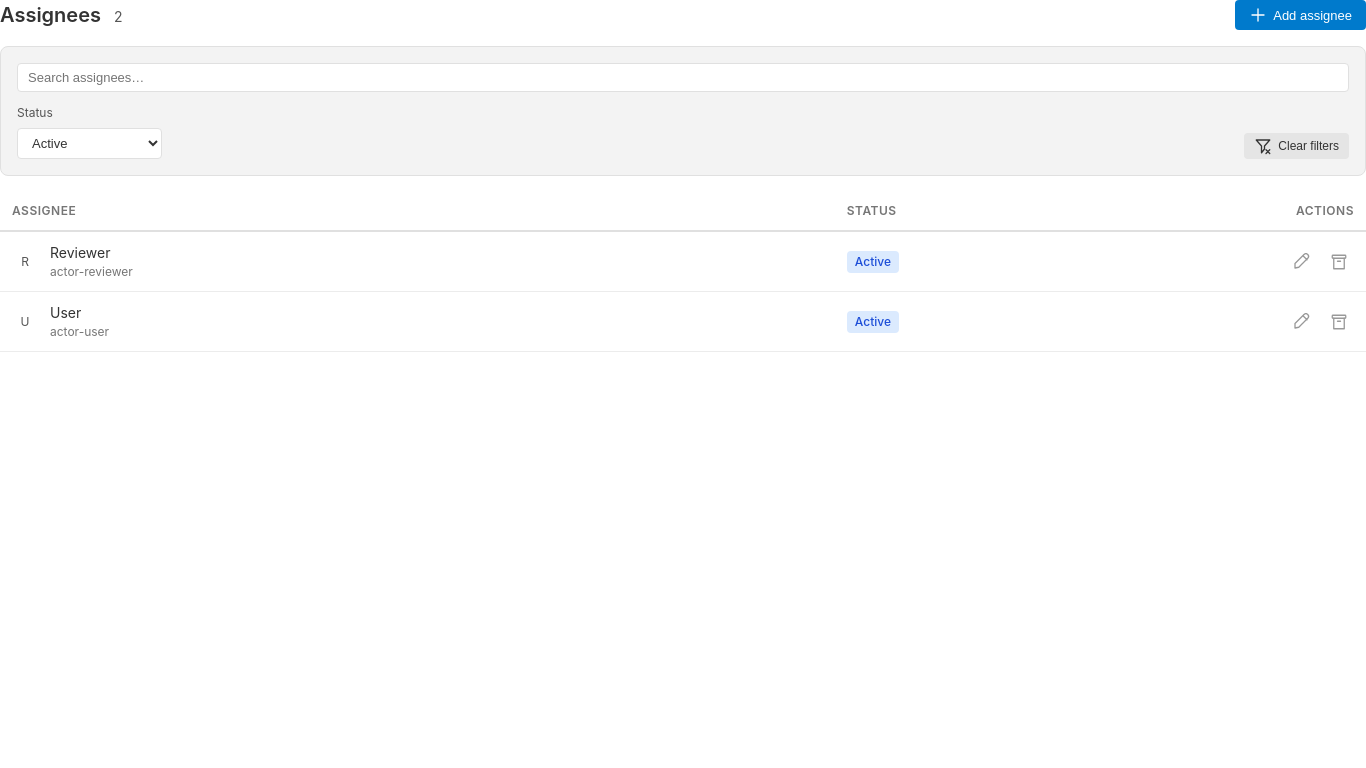
Scenario: cancels a rename dialog without changing the assignee
Expected: the button "Reviewer" is shown, [50,242,110,263]
Click the button named "Rename Reviewer" at {"x": 1301, "y": 262}, box [1286,250,1316,272]
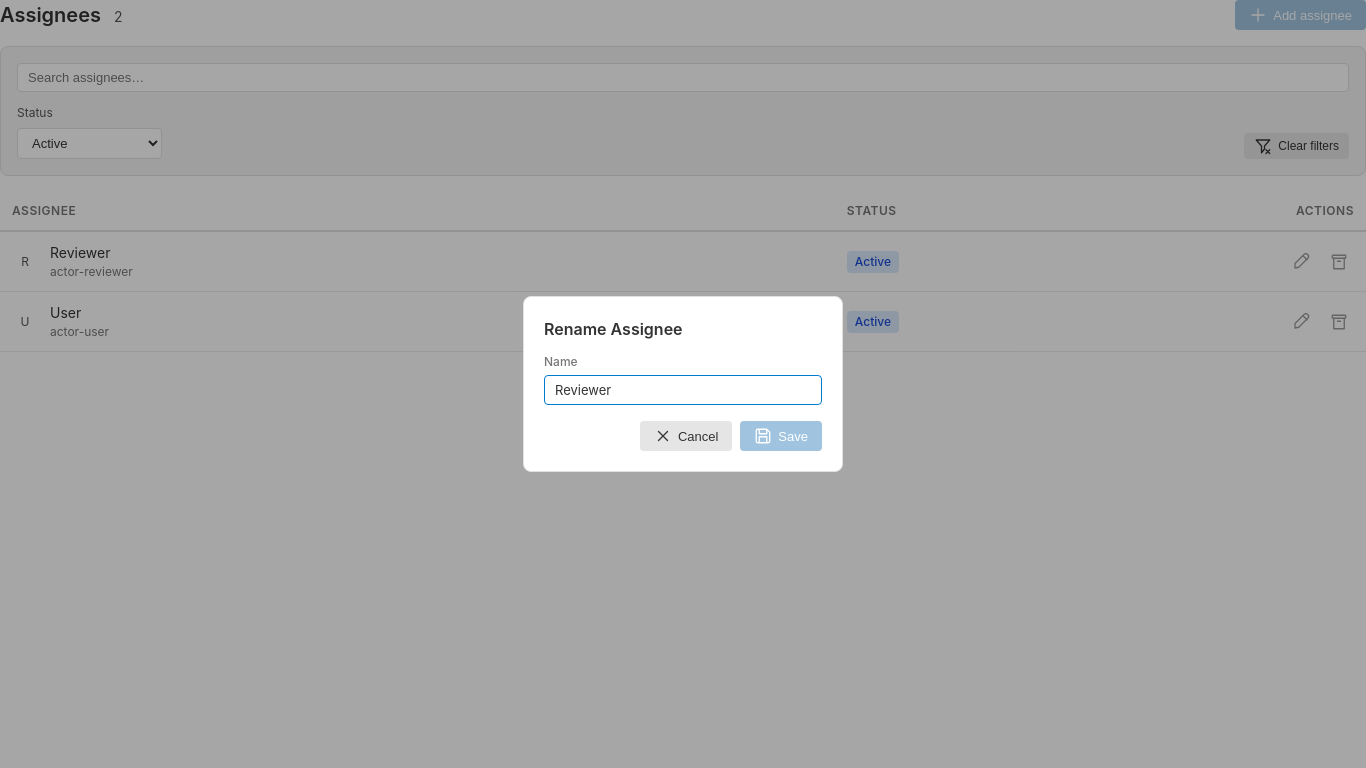
Expected: the button "Save" is disabled, [740,421,822,451]
Replace the text in the field labelled "Name" with "Draft name" at {"x": 683, "y": 390}, box [544,375,822,405]
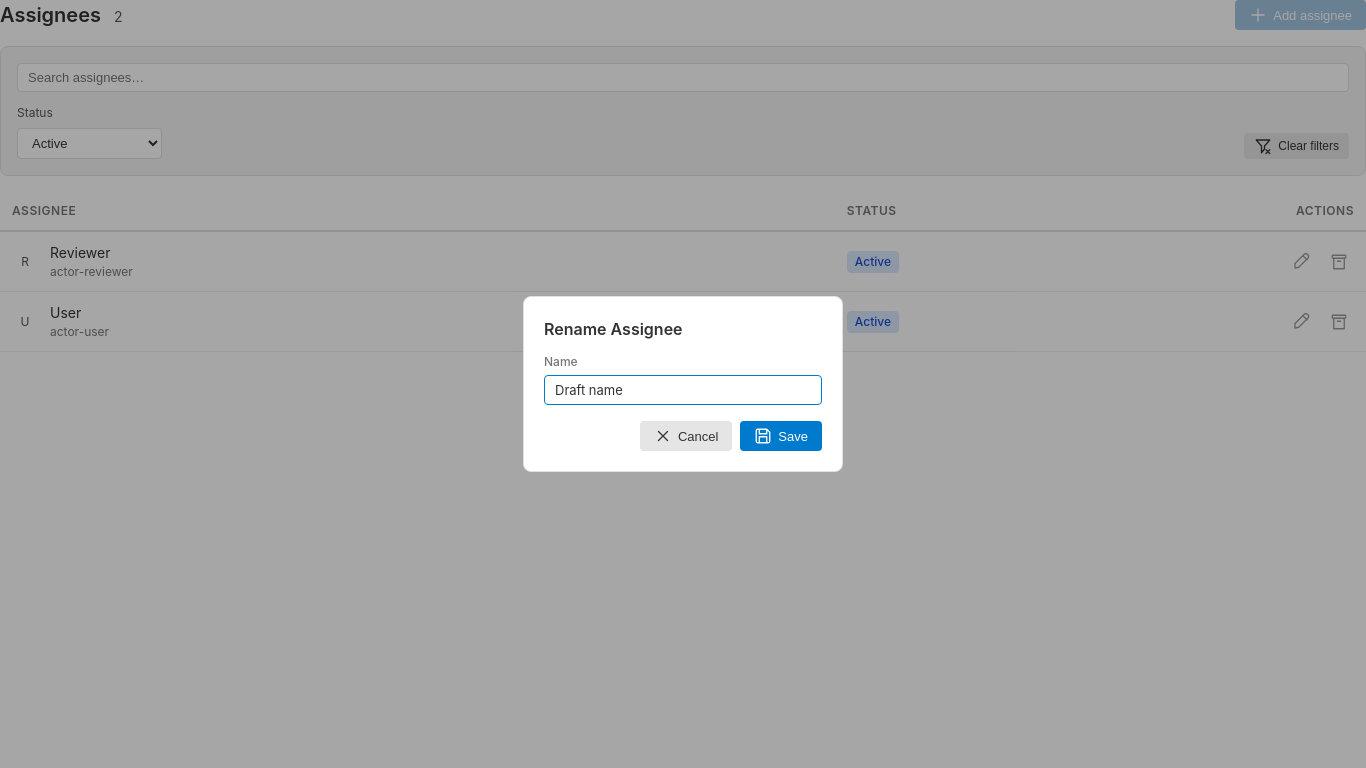
Click the button "Cancel" at {"x": 686, "y": 436}, box [640,421,732,451]
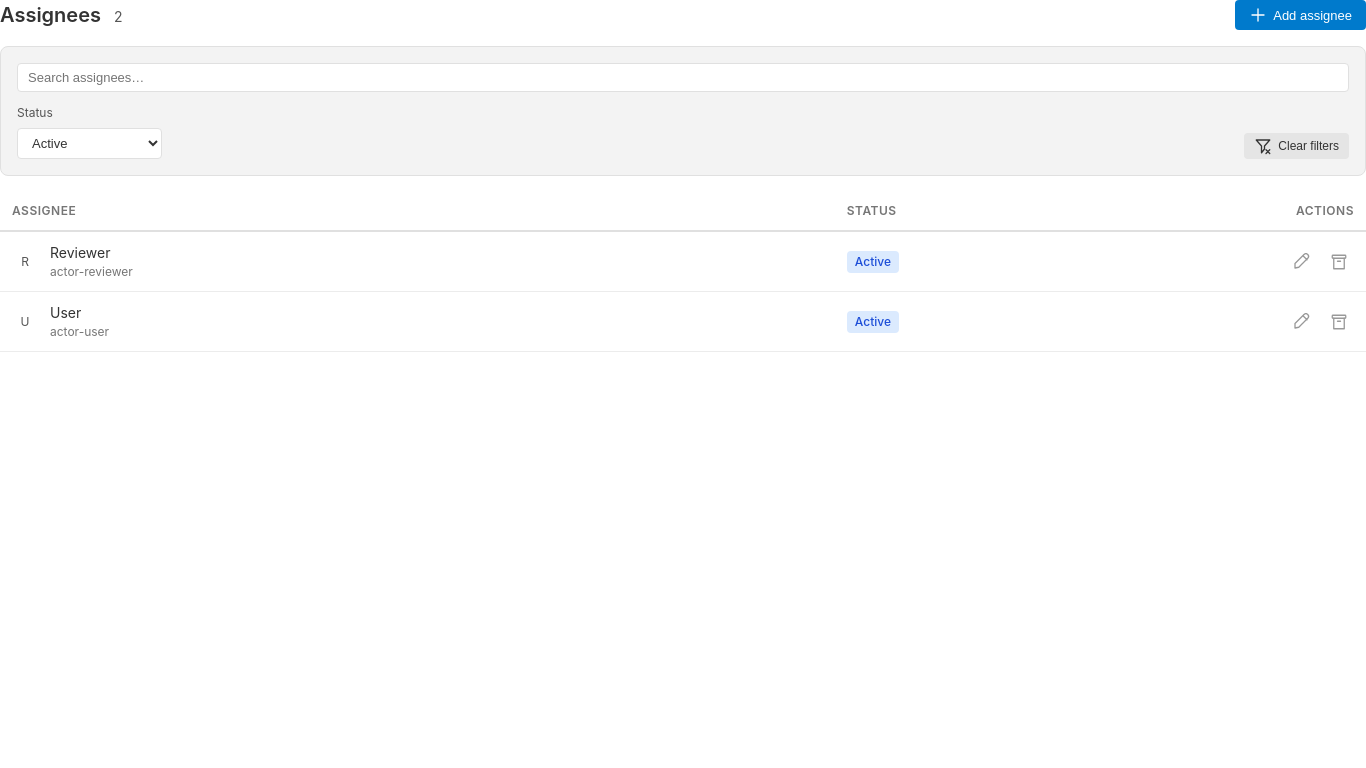
Expected: the dialog is gone
Click the button named "Rename Reviewer" at {"x": 1301, "y": 262}, box [1286,250,1316,272]
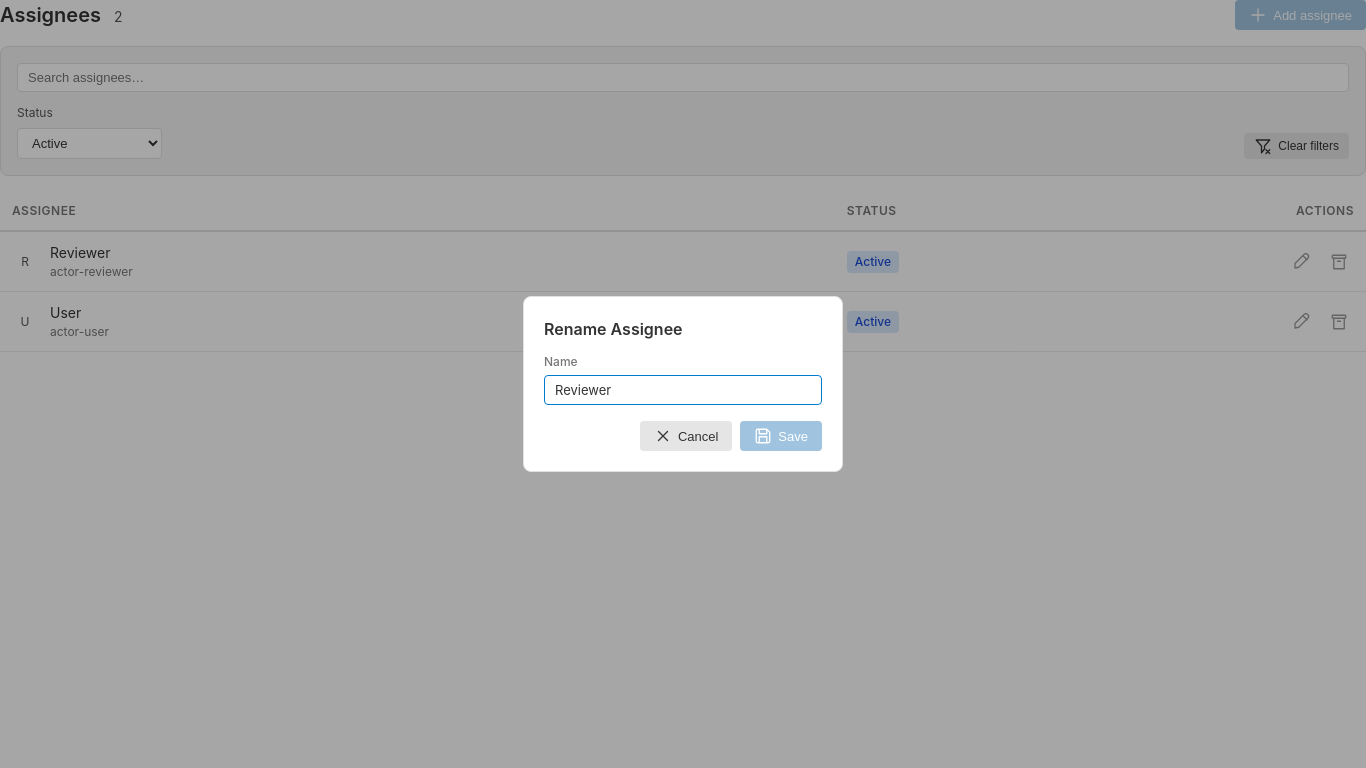
Expected: the field labelled "Name" holds "Reviewer"
Press Escape in the field labelled "Name", box [544,375,822,405]
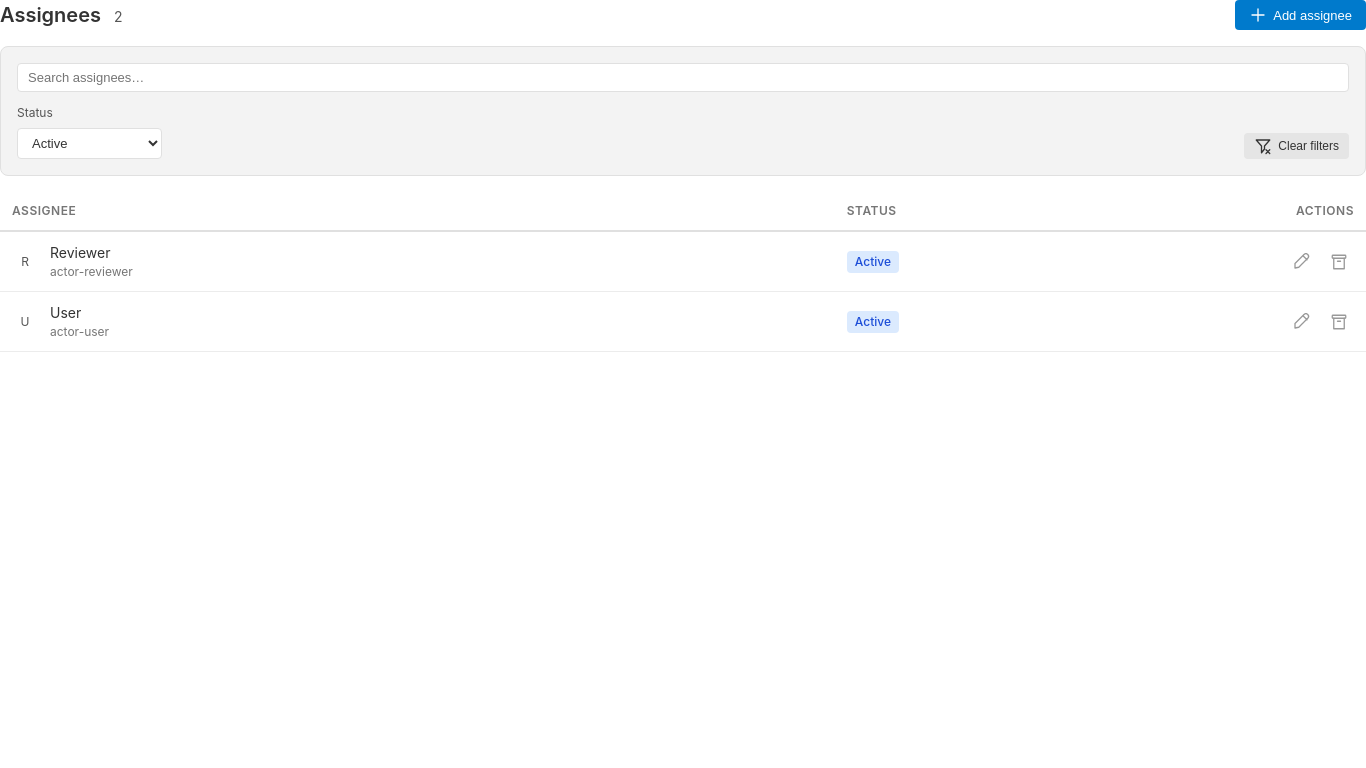
Expected: the dialog is gone
